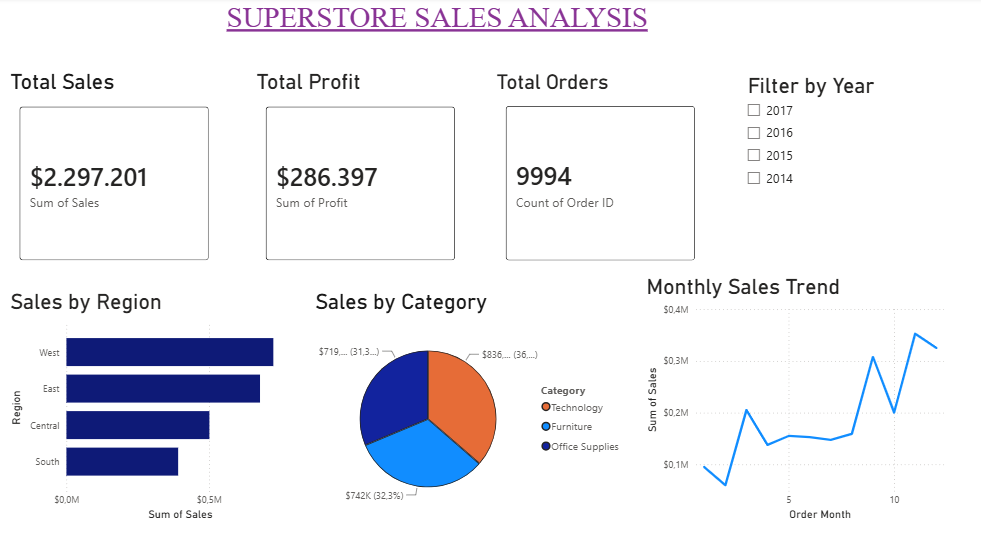

The page's visual inventory and layout, read from the dashboard file:
{"tool":"powerbi","page":{"name":"Sales Overview","canvas":[1280,720],"ordinal":0},"visuals":[{"type":"cardVisual","title":"Total Sales","fields":{"Data":["Sum(superstore_cleaned.Sales)"]},"box":[9.5,94.6,279.9,264.8],"z":0},{"type":"cardVisual","title":"Total Profit","fields":{"Data":["Sum(superstore_cleaned.Profit)"]},"box":[329.1,94.6,279.9,264.8],"z":1000},{"type":"cardVisual","title":"Total Orders","fields":{"Data":["CountNonNull(superstore_cleaned.Order ID)"]},"box":[639.2,94.6,279.9,264.8],"z":2000},{"type":"barChart","title":"Sales by Region","fields":{"Y":["Sum(superstore_cleaned.Sales)"],"Category":["superstore_cleaned.Region"]},"box":[9.5,378.3,395.3,304.5],"z":3000},{"type":"pieChart","title":"Sales by Category","fields":{"Category":["superstore_cleaned.Category"],"Y":["Sum(superstore_cleaned.Sales)"]},"box":[404.7,378.3,412.3,304.5],"z":4000},{"type":"lineChart","title":"Monthly Sales Trend","fields":{"Category":["superstore_cleaned.Order Month"],"Y":["Sum(superstore_cleaned.Sales)"]},"box":[834,359.3,395.3,323.4],"z":5000},{"type":"slicer","fields":{"Values":["superstore_cleaned.Order Year"]},"box":[957,94.6,272.3,247.8],"z":6000},{"type":"textbox","box":[289.4,0,574.9,71.9],"z":7000}]}

Visuals, with their boxes in screenshot pixels (x1, y1, x2, y2), scaled from the page's 1280x720 canvas onto the 981x547 screenshot:
"Total Sales" cardVisual: l=7, t=72, r=222, b=273
"Total Profit" cardVisual: l=252, t=72, r=467, b=273
"Total Orders" cardVisual: l=490, t=72, r=704, b=273
"Sales by Region" barChart: l=7, t=287, r=310, b=519
"Sales by Category" pieChart: l=310, t=287, r=626, b=519
"Monthly Sales Trend" lineChart: l=639, t=273, r=942, b=519
slicer - superstore_cleaned.Order Year: l=733, t=72, r=942, b=260
textbox: l=222, t=0, r=662, b=55
